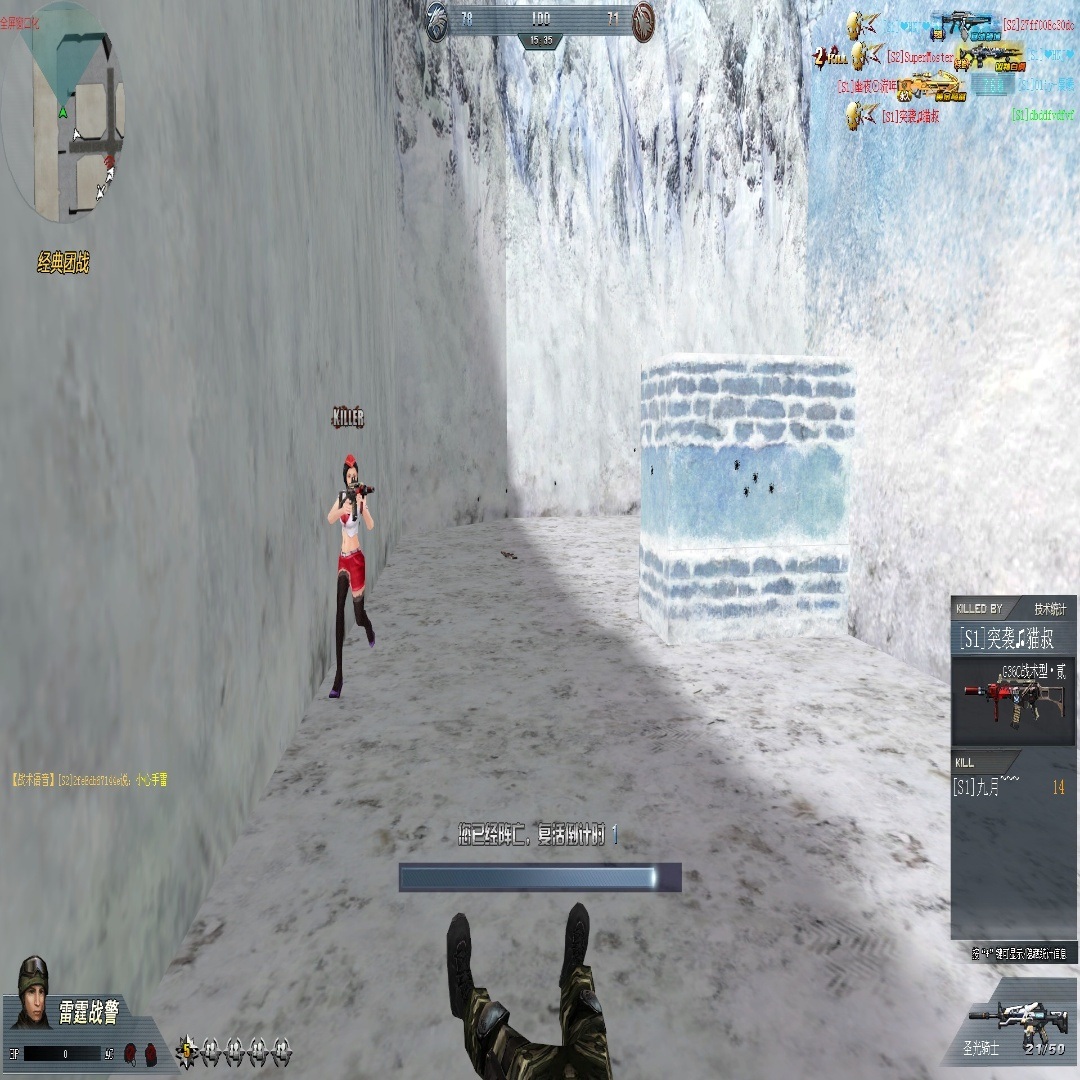t: (326, 453, 376, 701)
